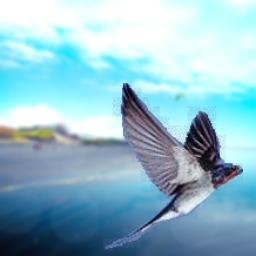Swallow: (101, 82, 243, 250)
